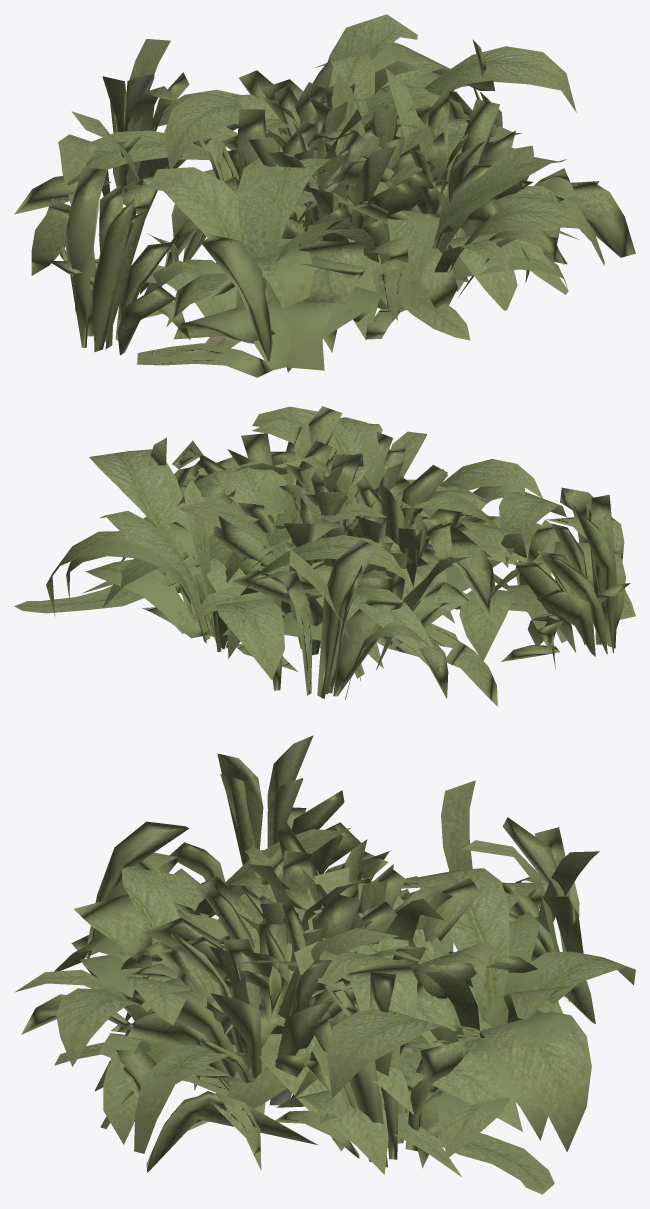
File: woodland_bonus.glb
The picture shows the model from 3 angles, top to bottom: view 1: azimuth 30°, elevation 25°; view 2: azimuth 150°, elevation 25°; view 3: azimuth 270°, elevation 25°; orthographic projection. The views are drawn at different scales.
Visible parts, largest first — view 1: woodland_extra_07, woodland_extra_05, woodland_extra_09, woodland_extra_06, woodland_extra_02, woodland_extra_08, woodland_extra_03, woodland_extra_04, woodland_extra_10, woodland_extra_11, woodland_extra_12, woodland_extra_01; view 2: woodland_extra_06, woodland_extra_09, woodland_extra_05, woodland_extra_08, woodland_extra_07, woodland_extra_02, woodland_extra_03, woodland_extra_10, woodland_extra_04, woodland_extra_11, woodland_extra_01, woodland_extra_12; view 3: woodland_extra_06, woodland_extra_02, woodland_extra_07, woodland_extra_05, woodland_extra_09, woodland_extra_08, woodland_extra_03, woodland_extra_10, woodland_extra_12, woodland_extra_01, woodland_extra_04, woodland_extra_11.
Boxes of the visible parts, <box> form: woodland_extra_07: <box>14,39,635,377</box>; woodland_extra_05: <box>58,72,470,352</box>; woodland_extra_09: <box>65,46,576,355</box>; woodland_extra_06: <box>60,14,594,296</box>; woodland_extra_02: <box>49,67,568,320</box>; woodland_extra_08: <box>58,51,567,372</box>; woodland_extra_03: <box>140,39,513,344</box>; woodland_extra_04: <box>199,109,353,250</box>; woodland_extra_10: <box>175,60,400,348</box>; woodland_extra_11: <box>227,82,453,242</box>; woodland_extra_12: <box>216,85,435,264</box>; woodland_extra_01: <box>281,109,367,222</box>; woodland_extra_06: <box>46,417,562,679</box>; woodland_extra_09: <box>89,449,625,668</box>; woodland_extra_05: <box>208,431,552,699</box>; woodland_extra_08: <box>170,406,542,666</box>; woodland_extra_07: <box>182,454,635,706</box>; woodland_extra_02: <box>14,406,630,617</box>; woodland_extra_03: <box>148,437,551,660</box>; woodland_extra_10: <box>213,461,525,656</box>; woodland_extra_04: <box>344,465,465,599</box>; woodland_extra_11: <box>285,453,457,610</box>; woodland_extra_01: <box>325,429,446,600</box>; woodland_extra_12: <box>273,440,417,607</box>; woodland_extra_06: <box>15,851,635,1168</box>; woodland_extra_02: <box>95,807,554,1194</box>; woodland_extra_07: <box>54,780,599,1172</box>; woodland_extra_05: <box>54,817,595,1114</box>; woodland_extra_09: <box>170,735,460,1109</box>; woodland_extra_08: <box>80,866,563,1144</box>; woodland_extra_03: <box>194,827,444,1167</box>; woodland_extra_10: <box>227,864,480,1147</box>; woodland_extra_12: <box>241,893,416,1008</box>; woodland_extra_01: <box>247,850,321,944</box>; woodland_extra_04: <box>218,822,408,943</box>; woodland_extra_11: <box>232,867,453,1051</box>.
Bounding box in the file's own units: 0.3452 × 0.104 × 0.2959.
1 material, 1 textured.
